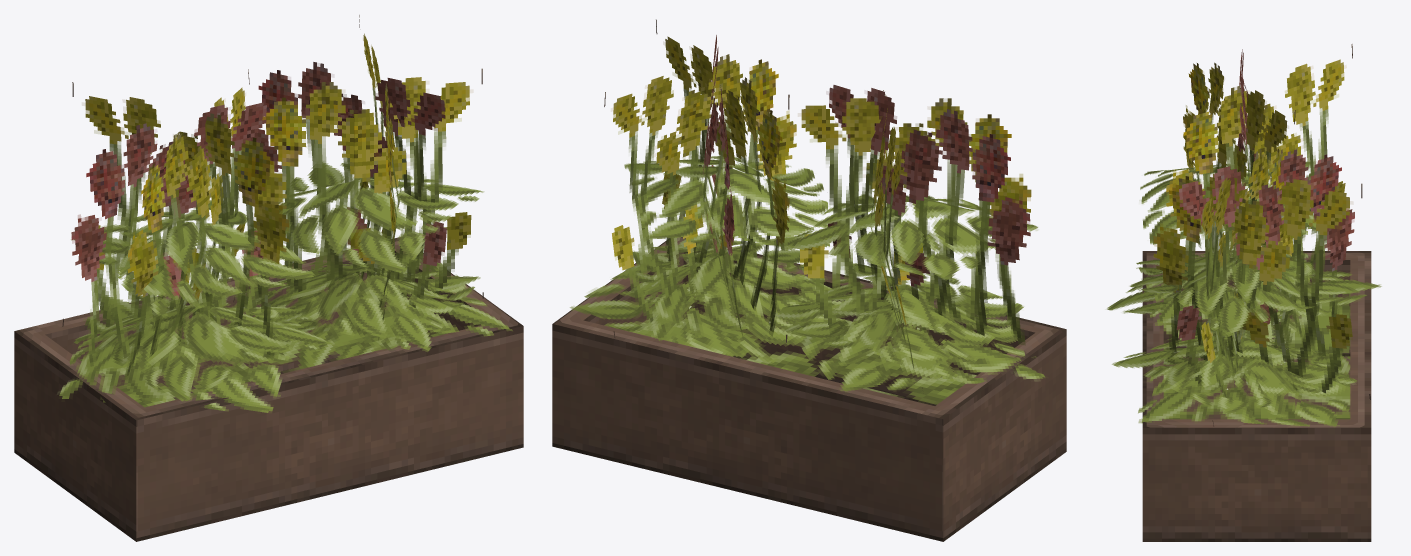
The model's file is flower_box_alt2.glb.
3 views of the same model, side by side, from view 1: azimuth 30°, elevation 25°; view 2: azimuth 150°, elevation 25°; view 3: azimuth 270°, elevation 25° (orthographic). The views are drawn at different scales.
Visible parts, largest first — view 1: flower_box_alt2; view 2: flower_box_alt2; view 3: flower_box_alt2.
Part boxes in pixels (x1=…): flower_box_alt2: x1=14, y1=15, x2=523, y2=541; flower_box_alt2: x1=552, y1=19, x2=1066, y2=541; flower_box_alt2: x1=1107, y1=44, x2=1381, y2=541.
Bounding box in the file's own units: 1.11 × 0.8907 × 0.7099.
1 material, 1 textured.
